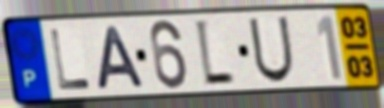1: (315, 13, 343, 82)
6: (148, 18, 189, 92)
A: (94, 24, 148, 92)
L: (192, 17, 238, 90), (47, 27, 94, 93)
U: (246, 15, 296, 86)
